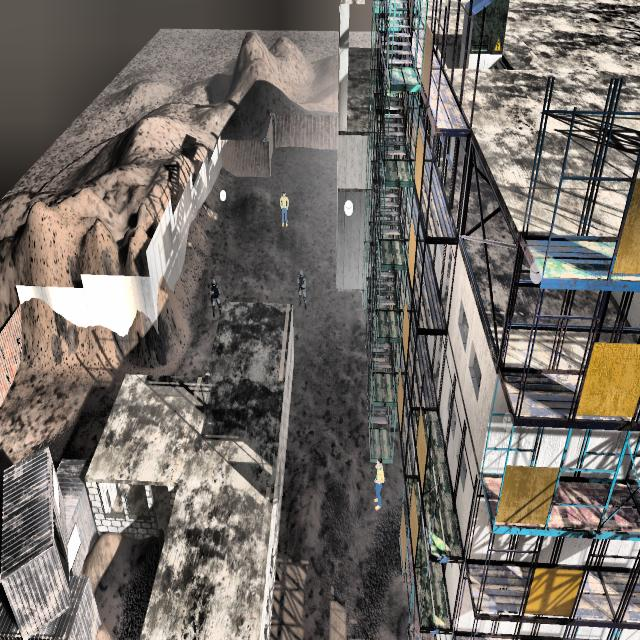bad: (292, 262, 311, 318), (206, 269, 224, 322)
good: (368, 444, 387, 516), (274, 180, 293, 237)
